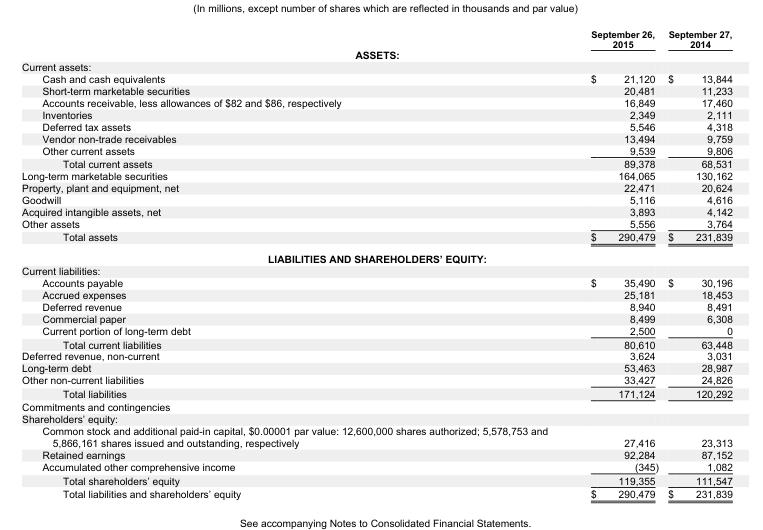table: (21, 28, 731, 499)
table column: (21, 28, 568, 499), (568, 28, 662, 499), (662, 28, 731, 499)
table column header: (21, 28, 731, 49)
table projected row header: (21, 247, 731, 264), (21, 60, 731, 72), (21, 264, 731, 276), (21, 400, 731, 412), (21, 412, 731, 424), (21, 49, 731, 60)
table row: (21, 424, 731, 448), (21, 28, 731, 49), (21, 230, 731, 247), (21, 247, 731, 264), (21, 386, 731, 400), (21, 156, 731, 169), (21, 217, 731, 230), (21, 324, 731, 337), (21, 373, 731, 386), (21, 460, 731, 473), (21, 473, 731, 486), (21, 486, 731, 499), (21, 60, 731, 72), (21, 72, 731, 84), (21, 84, 731, 96), (21, 96, 731, 108), (21, 108, 731, 120), (21, 120, 731, 132), (21, 132, 731, 144), (21, 144, 731, 156), (21, 169, 731, 181), (21, 181, 731, 193), (21, 193, 731, 205), (21, 205, 731, 217), (21, 264, 731, 276), (21, 276, 731, 288), (21, 288, 731, 300), (21, 300, 731, 312), (21, 312, 731, 324), (21, 337, 731, 349), (21, 349, 731, 361), (21, 361, 731, 373), (21, 400, 731, 412), (21, 412, 731, 424), (21, 448, 731, 460), (21, 49, 731, 60)
